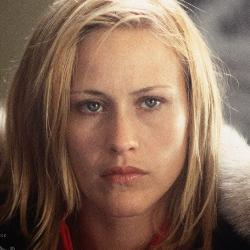face: (4, 1, 229, 224)
